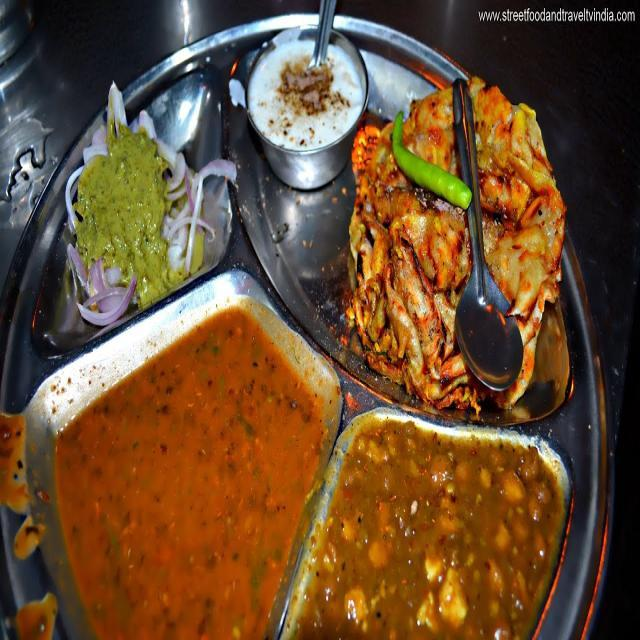rice: (246, 26, 367, 172)
veg-fry: (21, 264, 368, 640), (301, 380, 586, 637)
